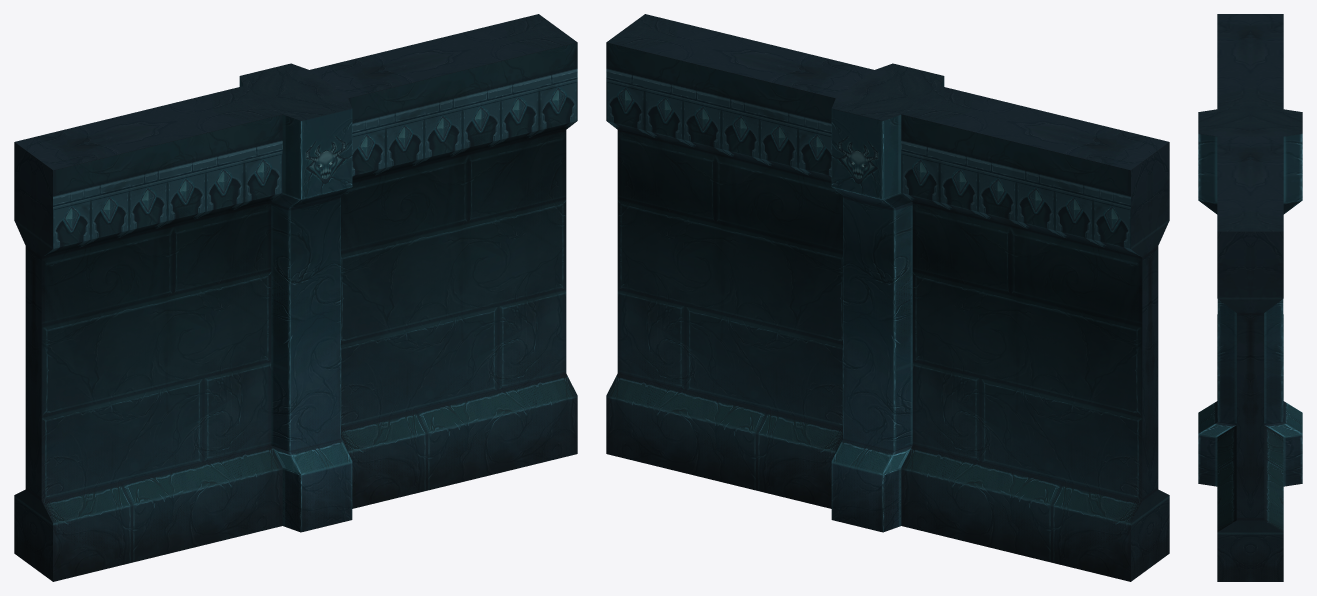
Rendered from SM_Wall.FBX.
The picture shows the model from 3 angles, left to right: view 1: azimuth 30°, elevation 25°; view 2: azimuth 150°, elevation 25°; view 3: azimuth 270°, elevation 25°; orthographic projection. The views are drawn at different scales.
Parts seen in each view (by area): view 1: SM_Wall; view 2: SM_Wall; view 3: SM_Wall.
Part boxes in pixels (box(x1,y1,x2,y2)): SM_Wall: box(14, 14, 577, 581); SM_Wall: box(606, 14, 1169, 581); SM_Wall: box(1198, 14, 1302, 581).
Size of the model in its own units: 800 by 600 by 162.
